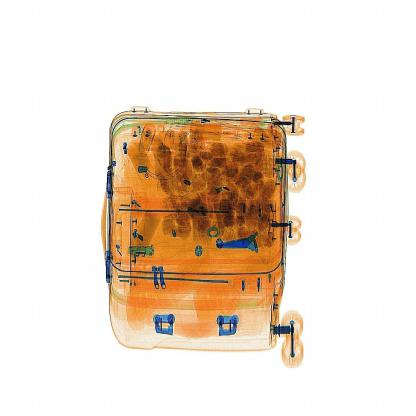gun: (209, 221, 266, 258)
